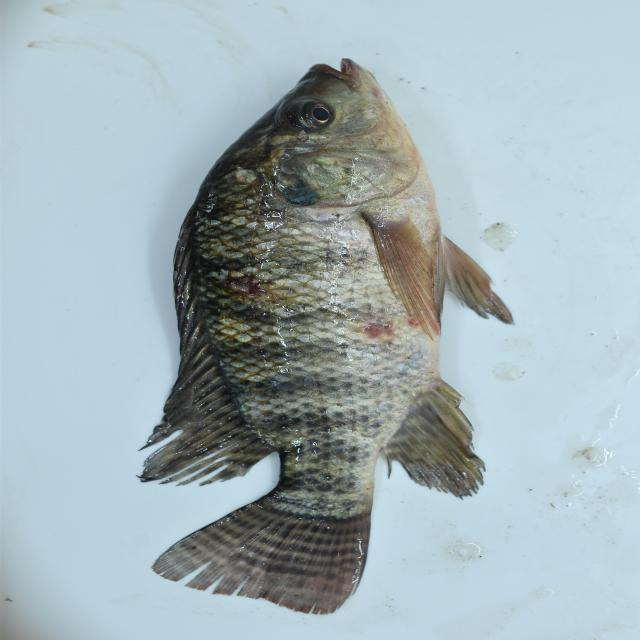Columnaris Disease: (134, 39, 511, 624)
